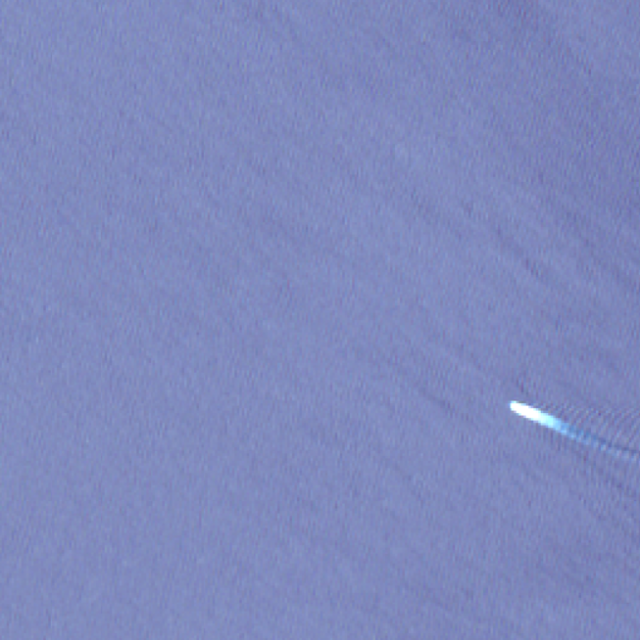wake: (478, 365, 635, 484)
